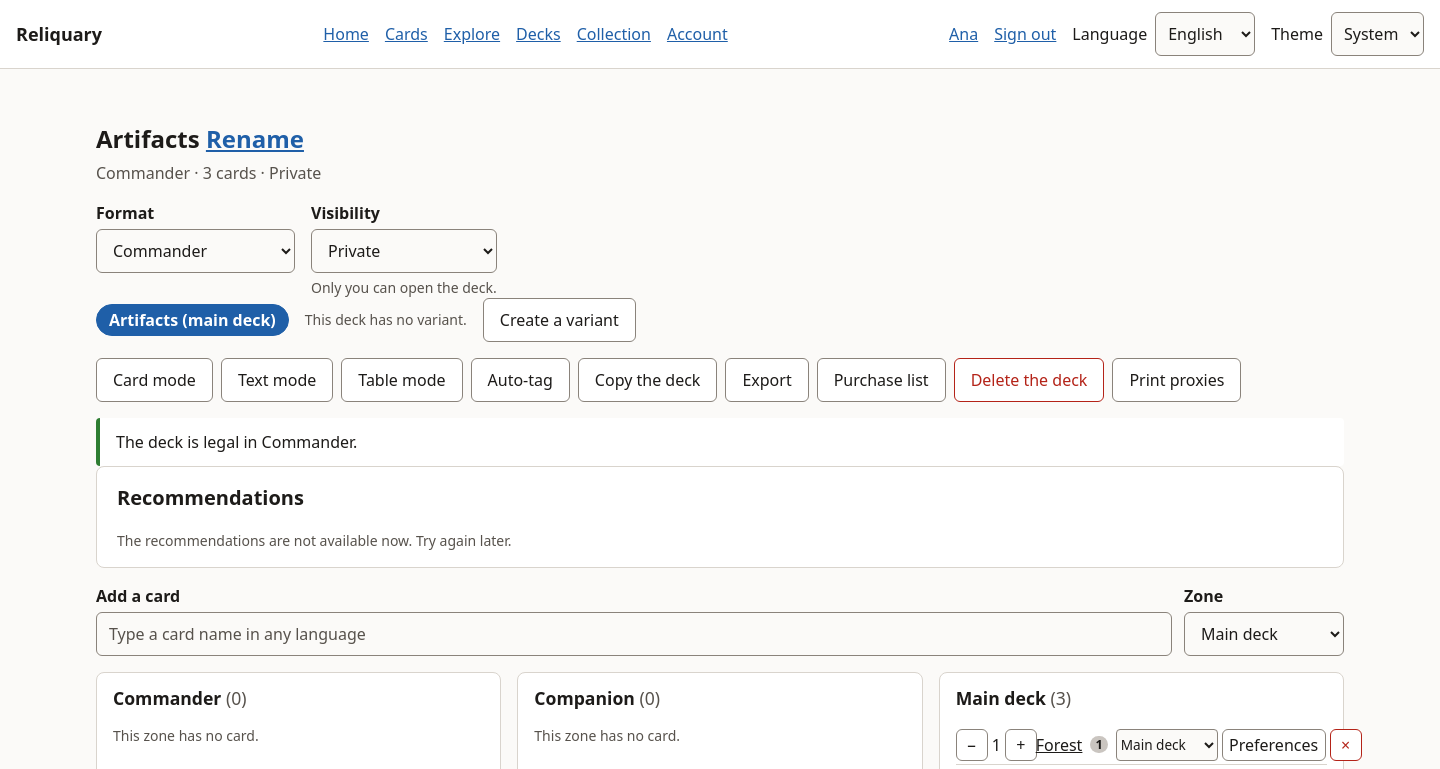
Test: auto-tag › clears the selection and disables the apply button
The image size is (1440, 769).
Click the button "Auto-tag" at (520, 380), box [470, 358, 570, 402]
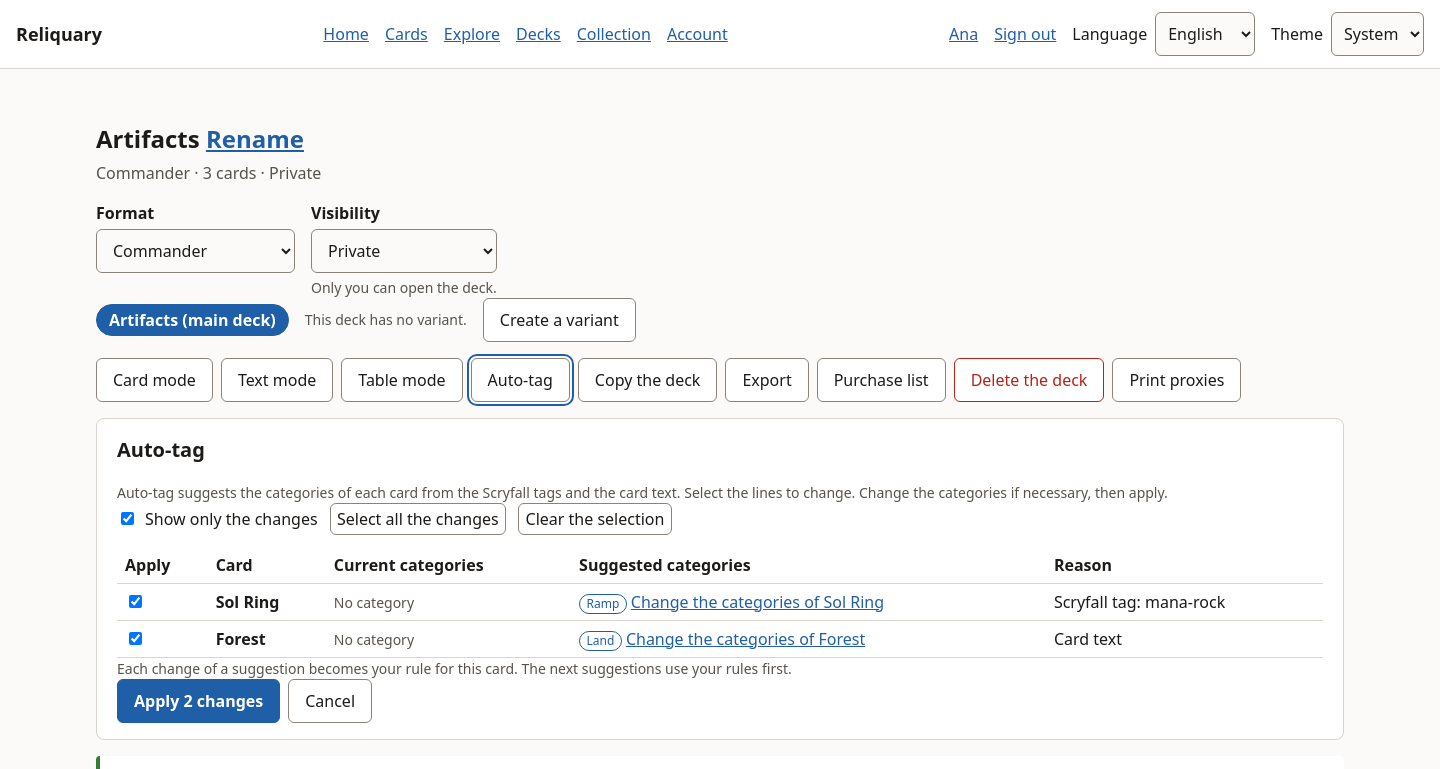
Now the table is shown, box [117, 546, 1323, 658]
Click the button "Clear the selection" at (595, 518), box [518, 502, 672, 534]
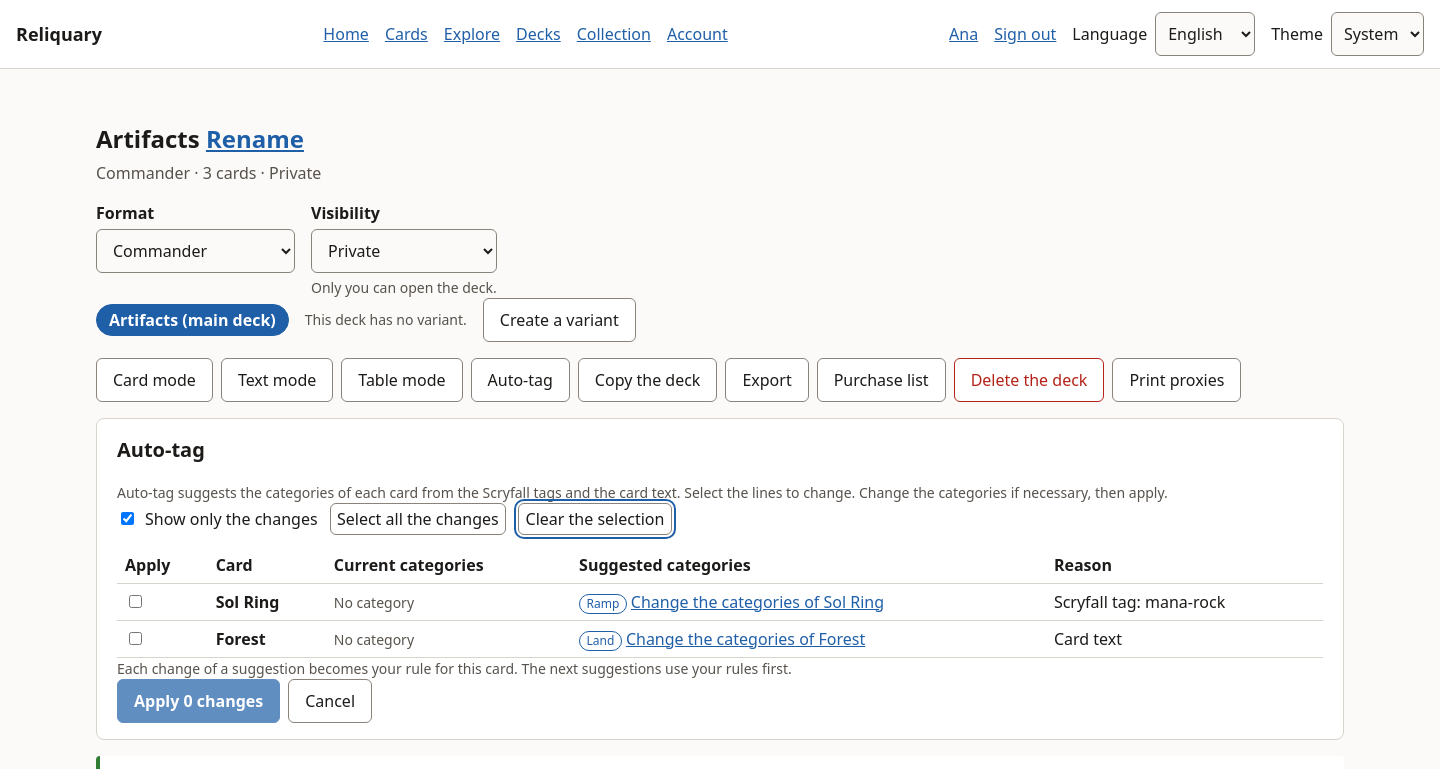
Now the button "Apply 0 changes" is disabled, box [117, 678, 280, 722]
Click the button "Select all the changes" at (418, 518), box [330, 502, 506, 534]
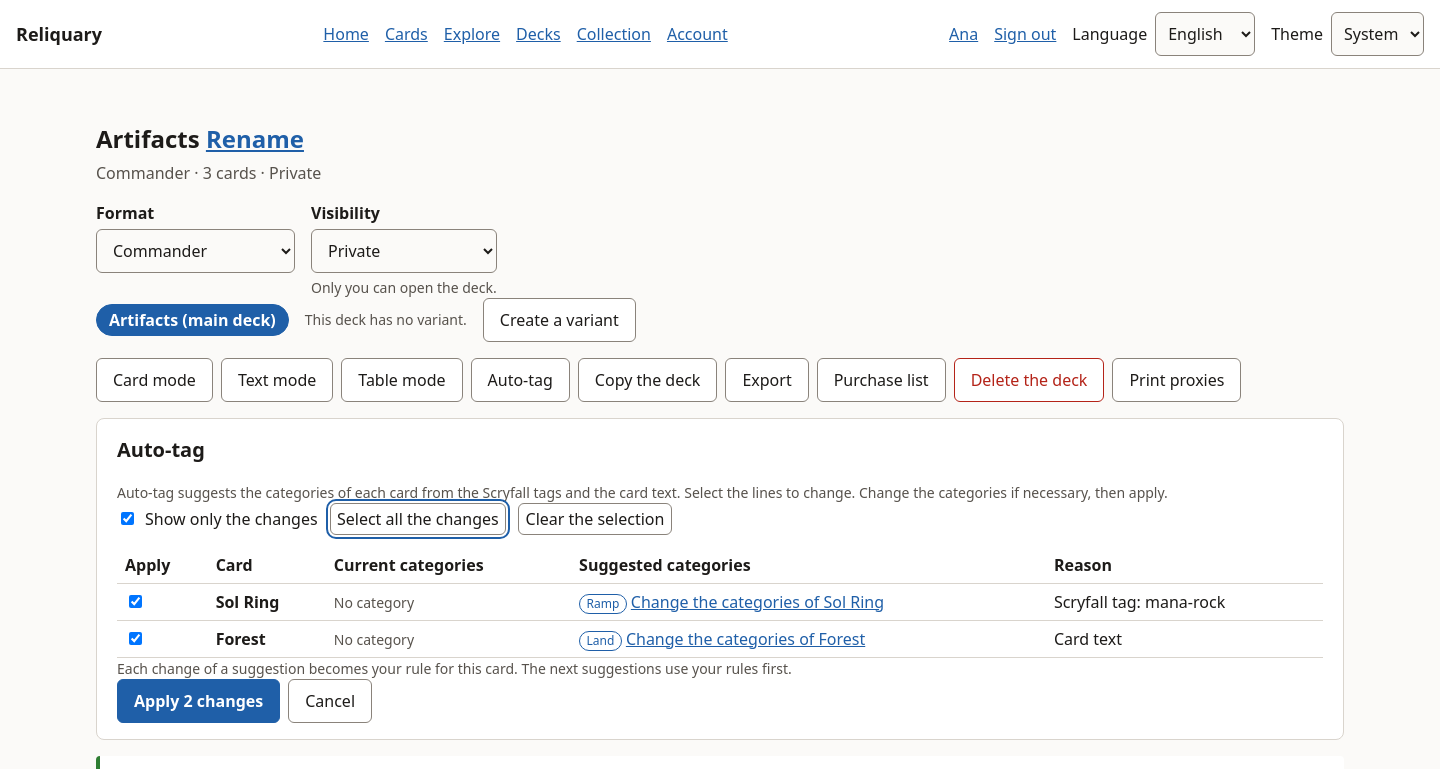
Now the button "Apply 2 changes" is enabled, box [117, 678, 280, 722]
